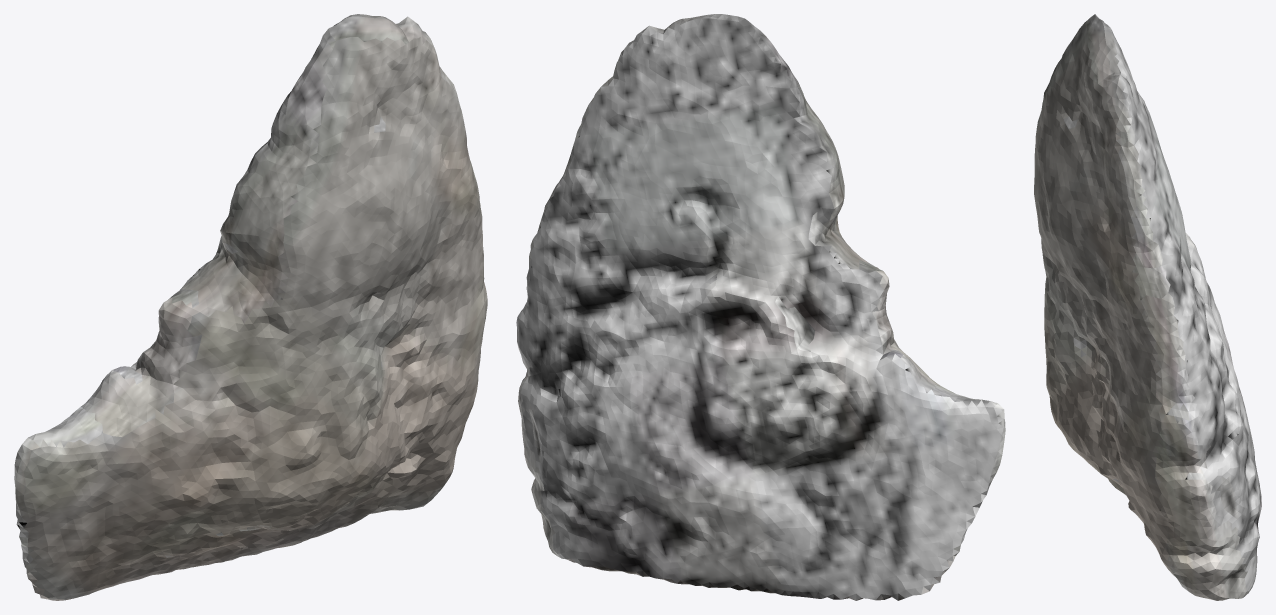
File: artefak_38281_low.glb
The picture shows the model from 3 angles, left to right: view 1: azimuth 30°, elevation 25°; view 2: azimuth 150°, elevation 25°; view 3: azimuth 270°, elevation 25°; orthographic projection. The views are drawn at different scales.
Parts seen in each view (by area): view 1: world; view 2: world; view 3: world.
Boxes of the visible parts, <box> form: world: <box>14,14,487,600</box>; world: <box>516,14,1005,600</box>; world: <box>1034,14,1261,600</box>.
Bounding box in the file's own units: 0.8241 × 0.8919 × 0.3486.
Materials: 1 (1 with a texture image).
